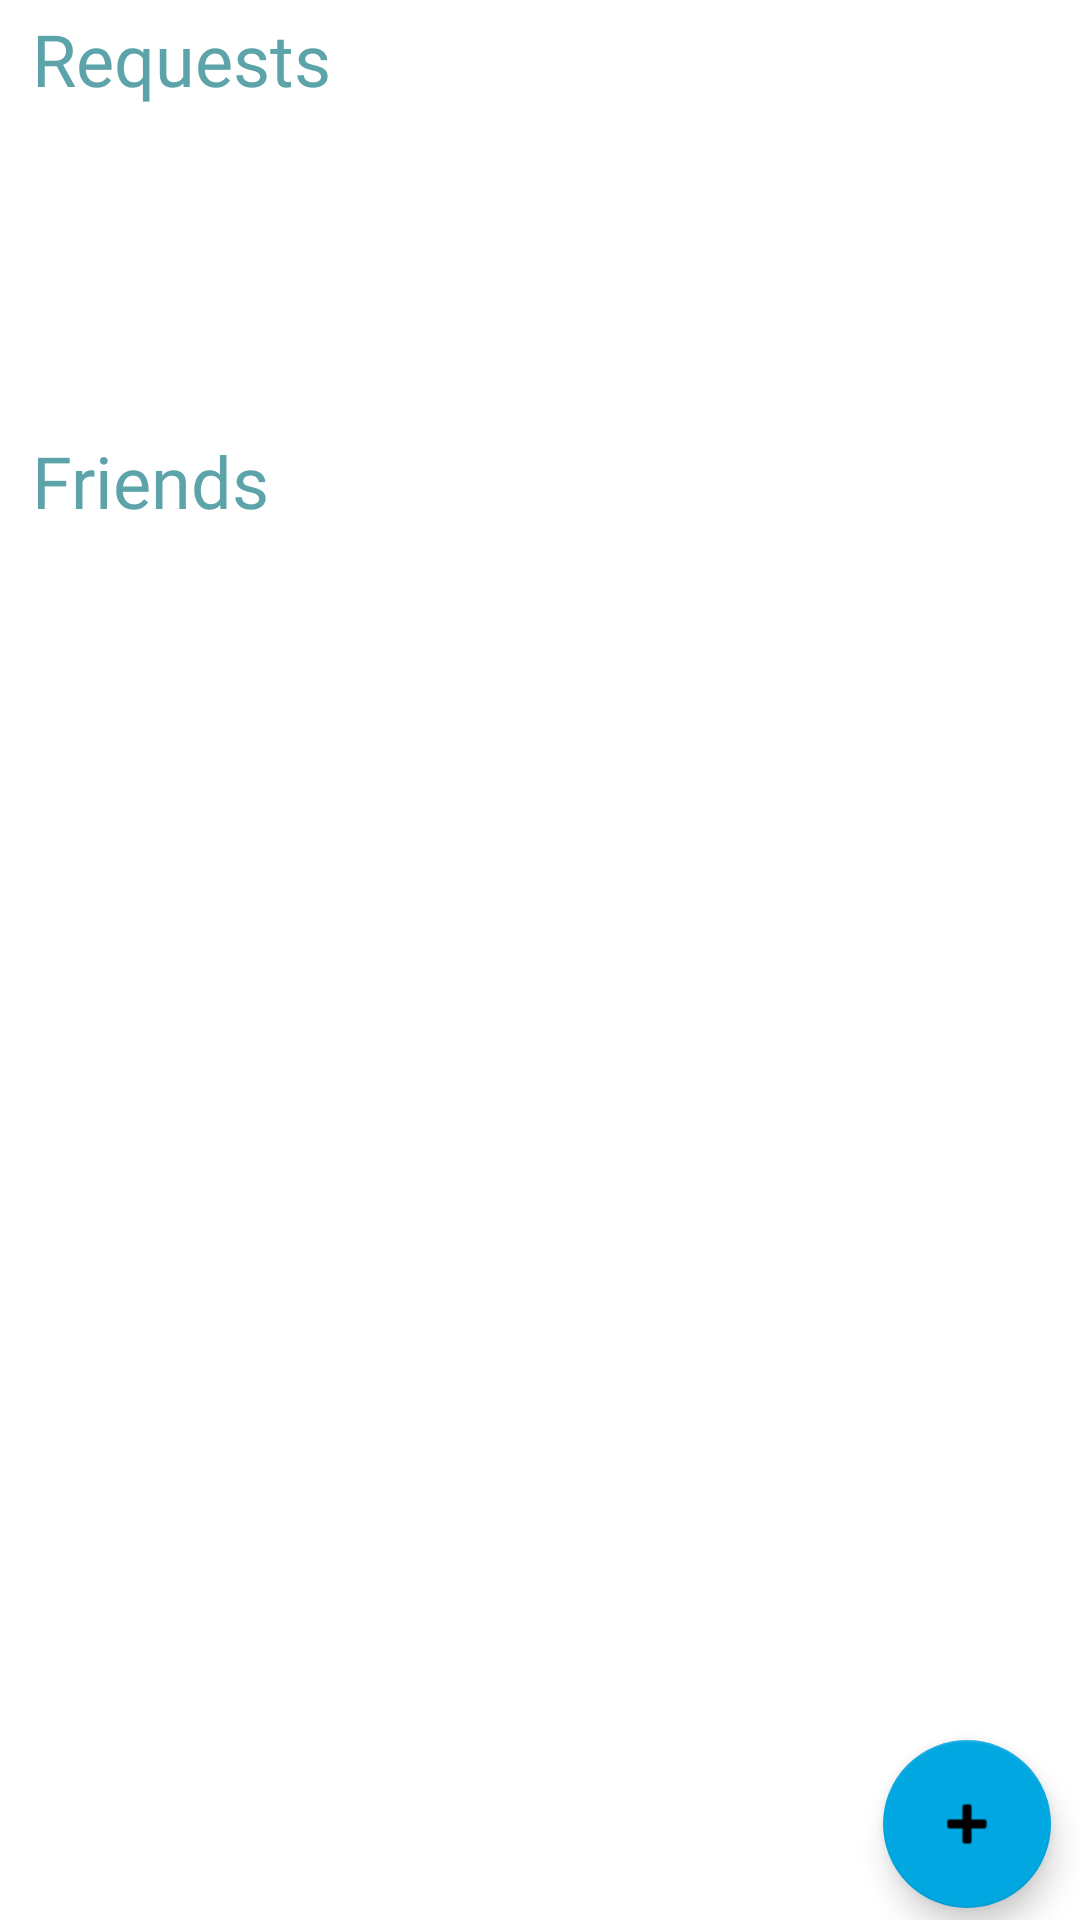

Where icons sit on this 1080x1920 app screen, as (x1, y1, x2, y2):
add: (883, 1740, 1051, 1908)
